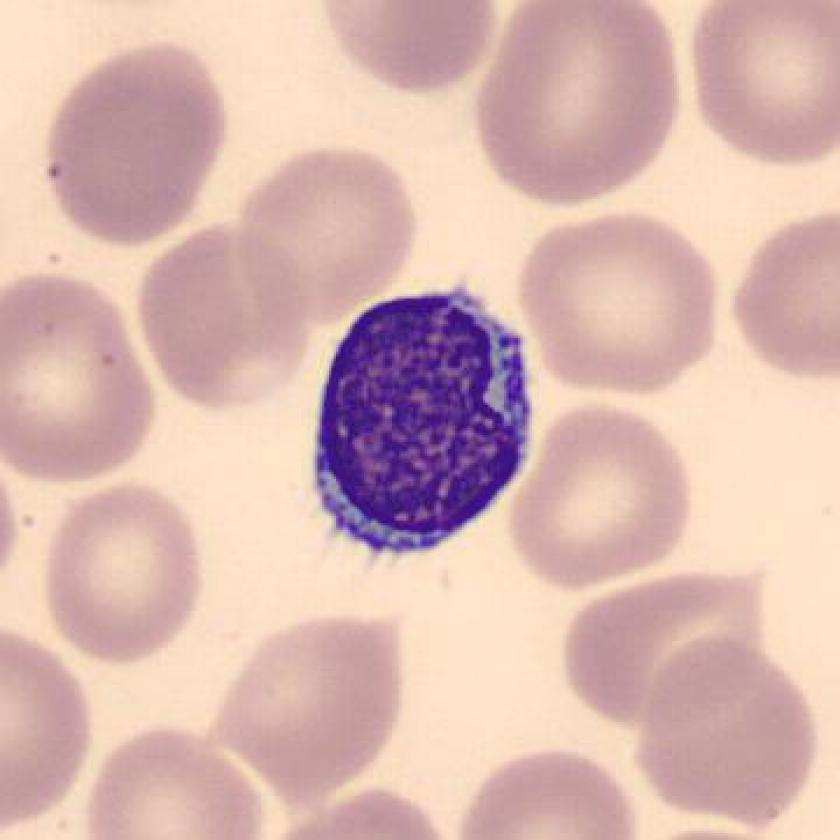lymphocyte: (286, 272, 561, 575)
